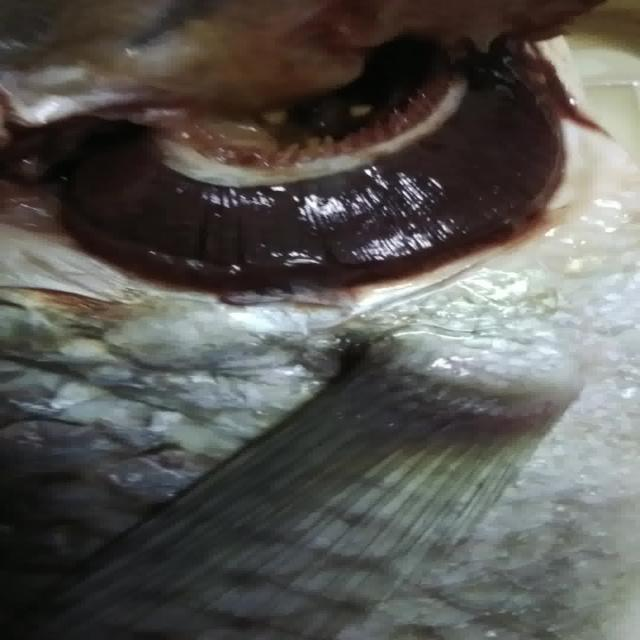Non-Fresh: (0, 0, 596, 345)
